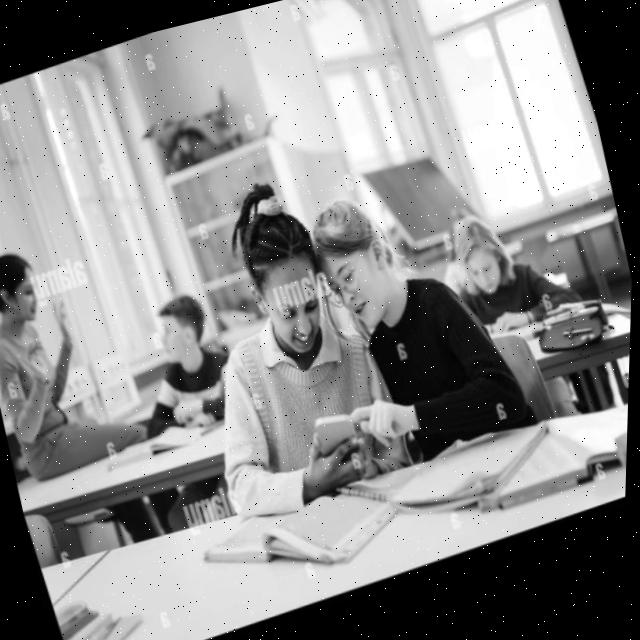phone: (311, 405, 370, 467)
